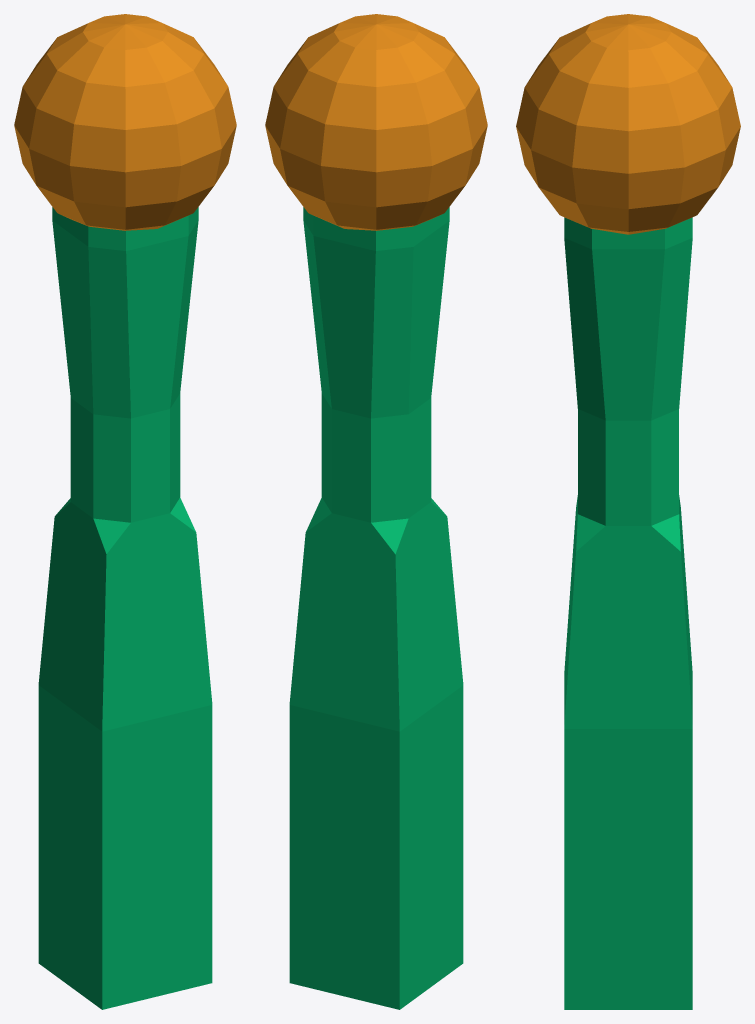
File: SwitchLever.fbx
The picture shows the model from 3 angles, left to right: view 1: azimuth 30°, elevation 25°; view 2: azimuth 150°, elevation 25°; view 3: azimuth 270°, elevation 25°; orthographic projection.
Parts seen in each view (by area): view 1: SwitchLever; view 2: SwitchLever; view 3: SwitchLever.
Boxes of the visible parts, bbox=[...] form: SwitchLever: bbox=[14, 14, 236, 1009]; SwitchLever: bbox=[265, 14, 487, 1009]; SwitchLever: bbox=[516, 14, 740, 1009].
Bounding box in the file's own units: 20.67 × 20.67 × 97.21.
